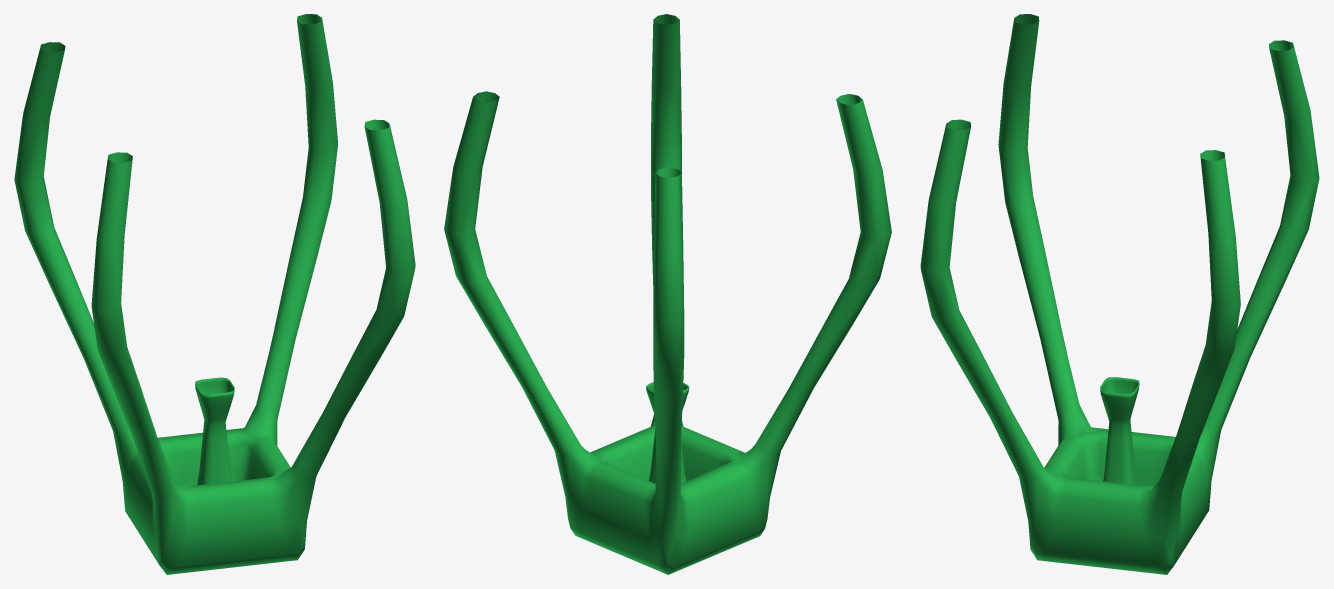
File: BaloonBase.obj
The picture shows the model from 3 angles, left to right: view 1: azimuth 30°, elevation 25°; view 2: azimuth 150°, elevation 25°; view 3: azimuth 270°, elevation 25°; orthographic projection. The views are drawn at different scales.
Visible parts, largest first — view 1: pCube1; view 2: pCube1; view 3: pCube1.
Part boxes in pixels (<box>): pCube1: <box>14,14,415,574</box>; pCube1: <box>444,14,891,574</box>; pCube1: <box>920,14,1319,574</box>.
Bounding box in the file's own units: 51.42 × 63.91 × 50.83.
